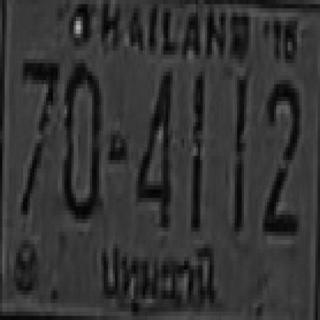N00: (61, 59, 100, 219)
N01: (190, 72, 204, 227), (234, 74, 245, 229)
N02: (262, 76, 299, 232)
N04: (137, 67, 172, 223)
N07: (21, 59, 58, 215)
P38: (97, 236, 223, 316)
